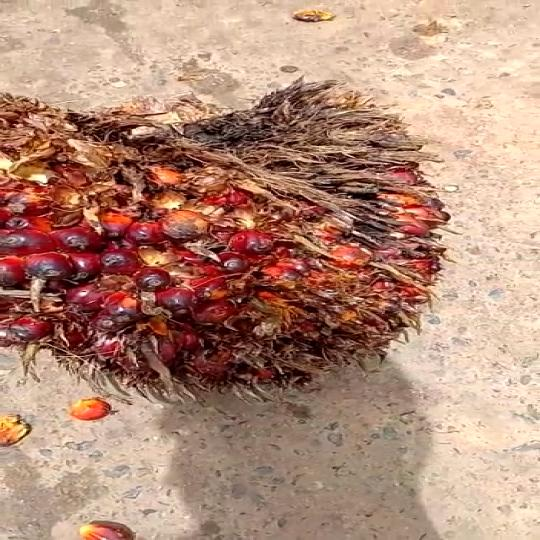masak: (0, 73, 459, 398)
